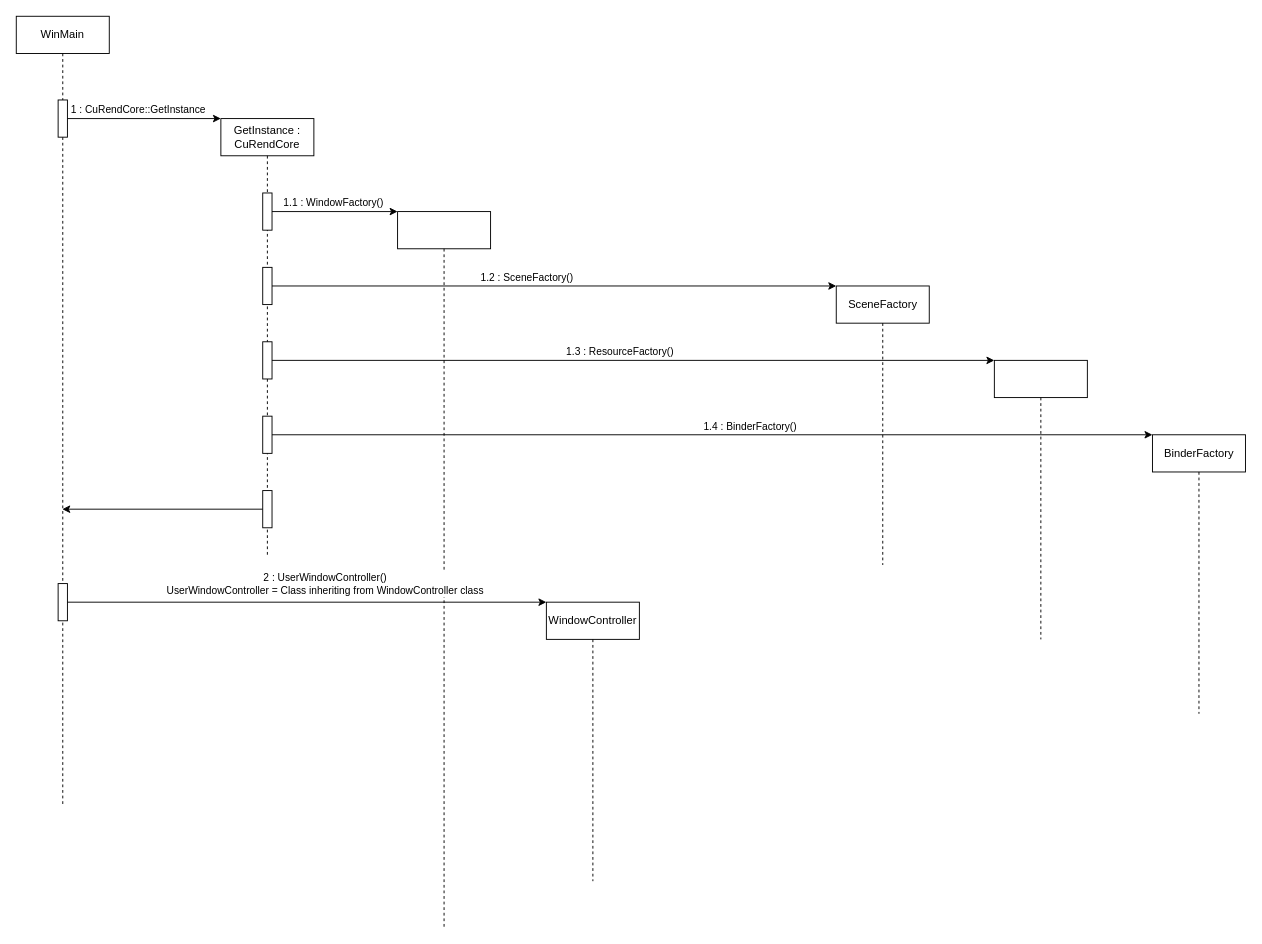
Some shapes in this 1262 by 944 pixel diagram are drawn without their labels. Each missing label, with the box of its shape:
ResourceFactory: (993, 359, 1087, 639)
WindowFactory: (397, 211, 491, 928)
